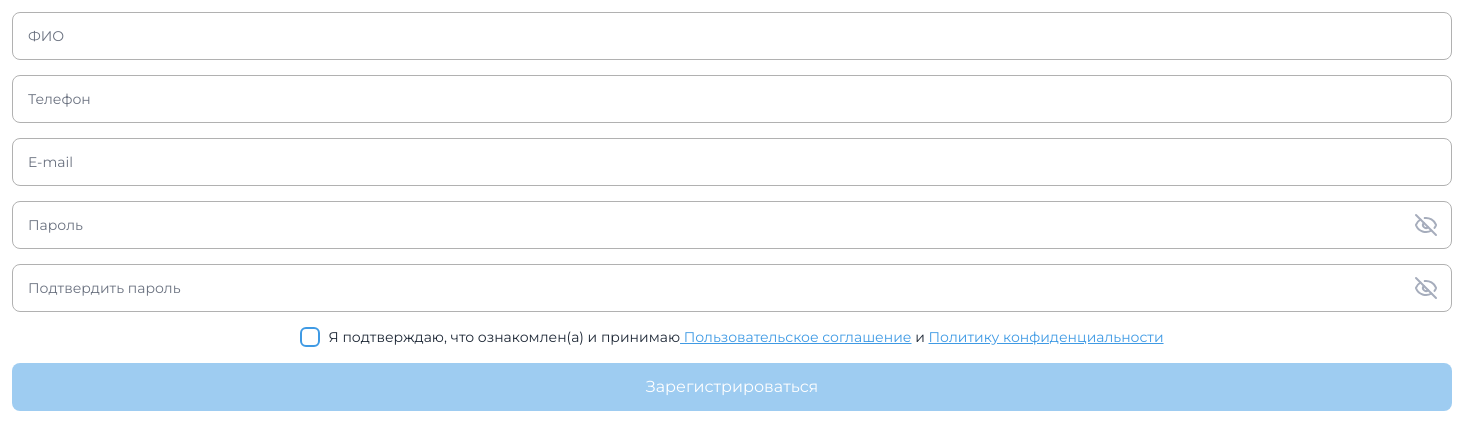
RegisterForm › кнопка активна после принятия соглашения
Click the checkbox. click: (732, 338)
box: [300,327,1164,348]
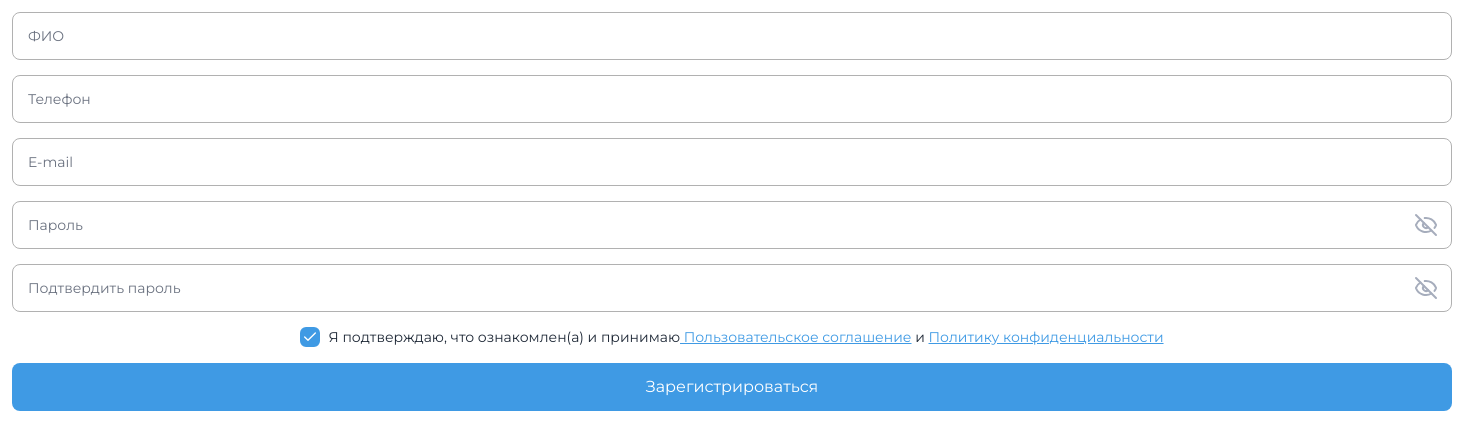
Expected: the button "Зарегистрироваться" is enabled, [12,363,1452,411]
